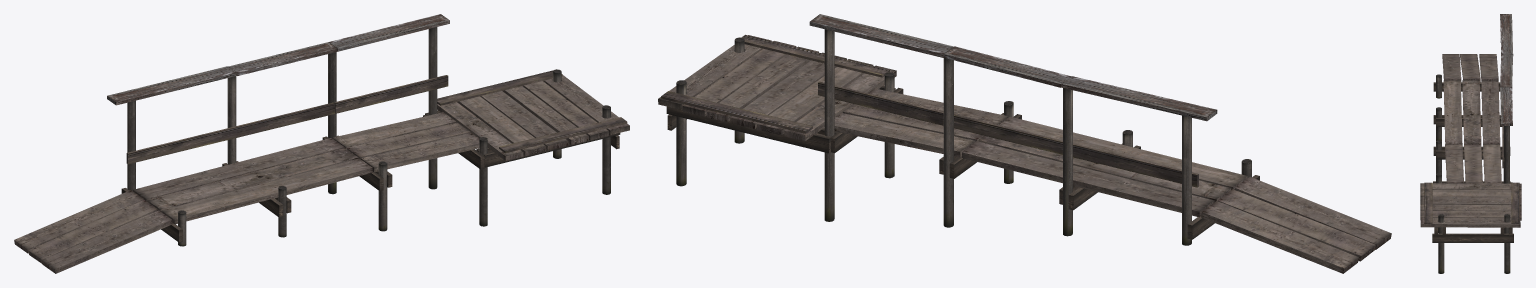
The model's file is bridge_on_the_lake.FBX.
3 renders of one model, left to right at view 1: azimuth 30°, elevation 25°; view 2: azimuth 150°, elevation 25°; view 3: azimuth 270°, elevation 25°, orthographic. The views are drawn at different scales.
Visible parts, largest first — view 1: Box030; view 2: Box030; view 3: Box030.
Part boxes in pixels (x1,y1,x2,y2): Box030: (14,14,629,273); Box030: (658,14,1391,273); Box030: (1420,14,1521,273).
Bounding box in the file's own units: 6.08 × 1.74 × 1.42.
Materials: 1 (1 with a texture image).
